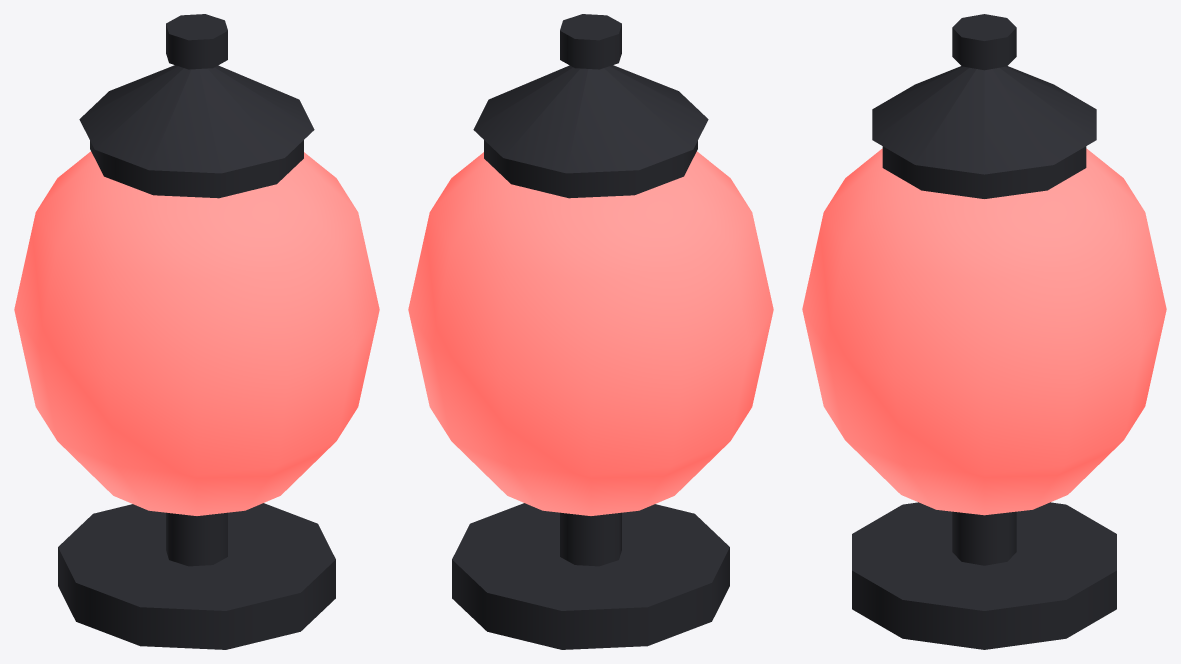
Rendered from lantern-red.glb.
The picture shows the model from 3 angles, left to right: view 1: azimuth 30°, elevation 25°; view 2: azimuth 150°, elevation 25°; view 3: azimuth 270°, elevation 25°; orthographic projection.
Bounding box in the file's own units: 0.34 × 0.58 × 0.34.
